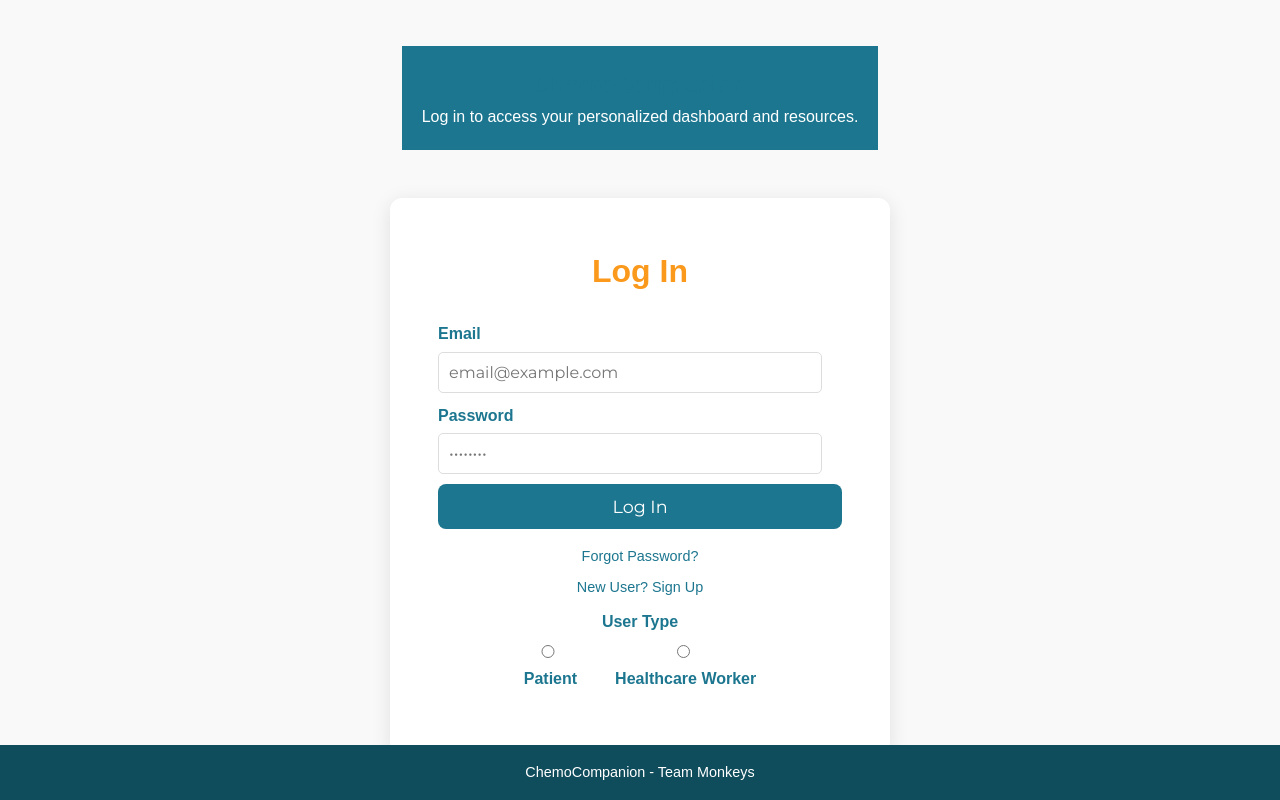
Scenario: Login Page Tests › should open the forgot password modal
Click the link with class "forgot-password". click: (641,556)
box: [582,548,699,564]
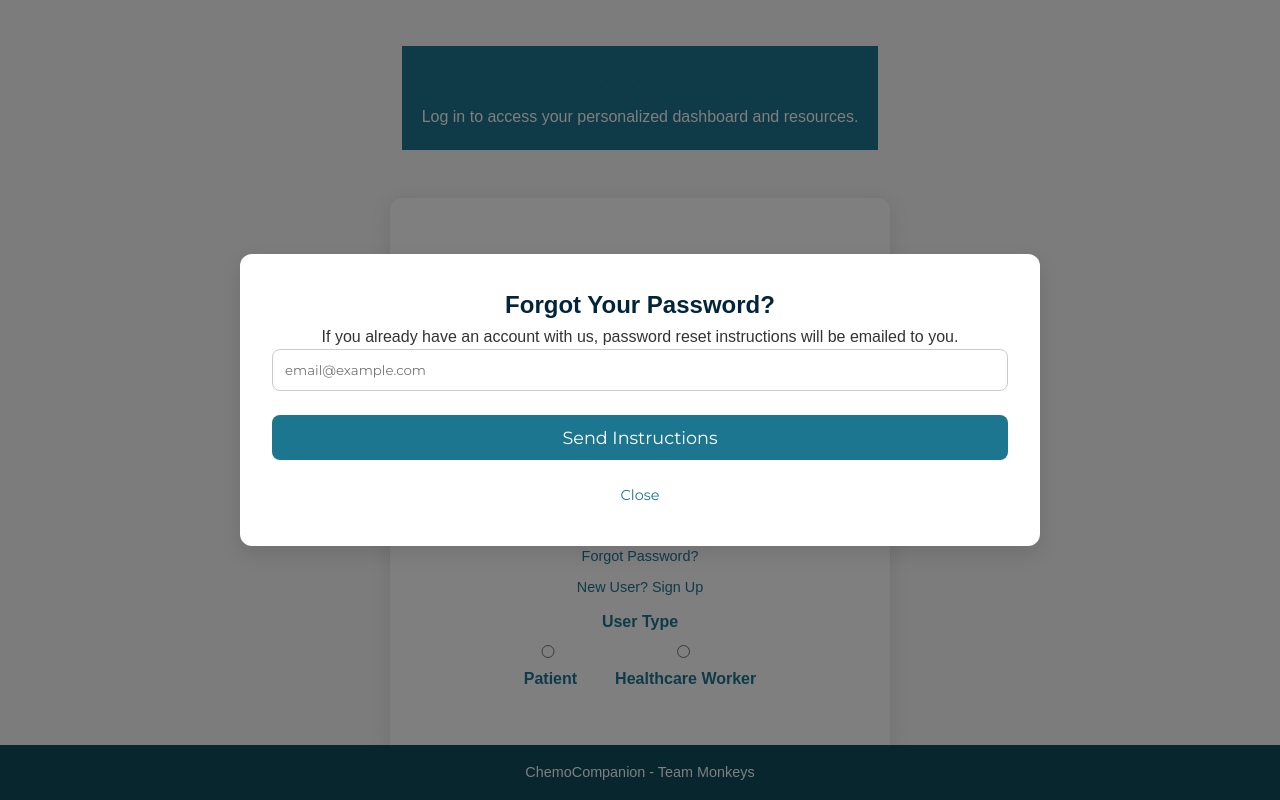
Result: the heading "Forgot Your Password?" is shown at [505,290,775,318]
Click the button with class "modal-button". click: (640,439)
box: [272,416,1008,461]
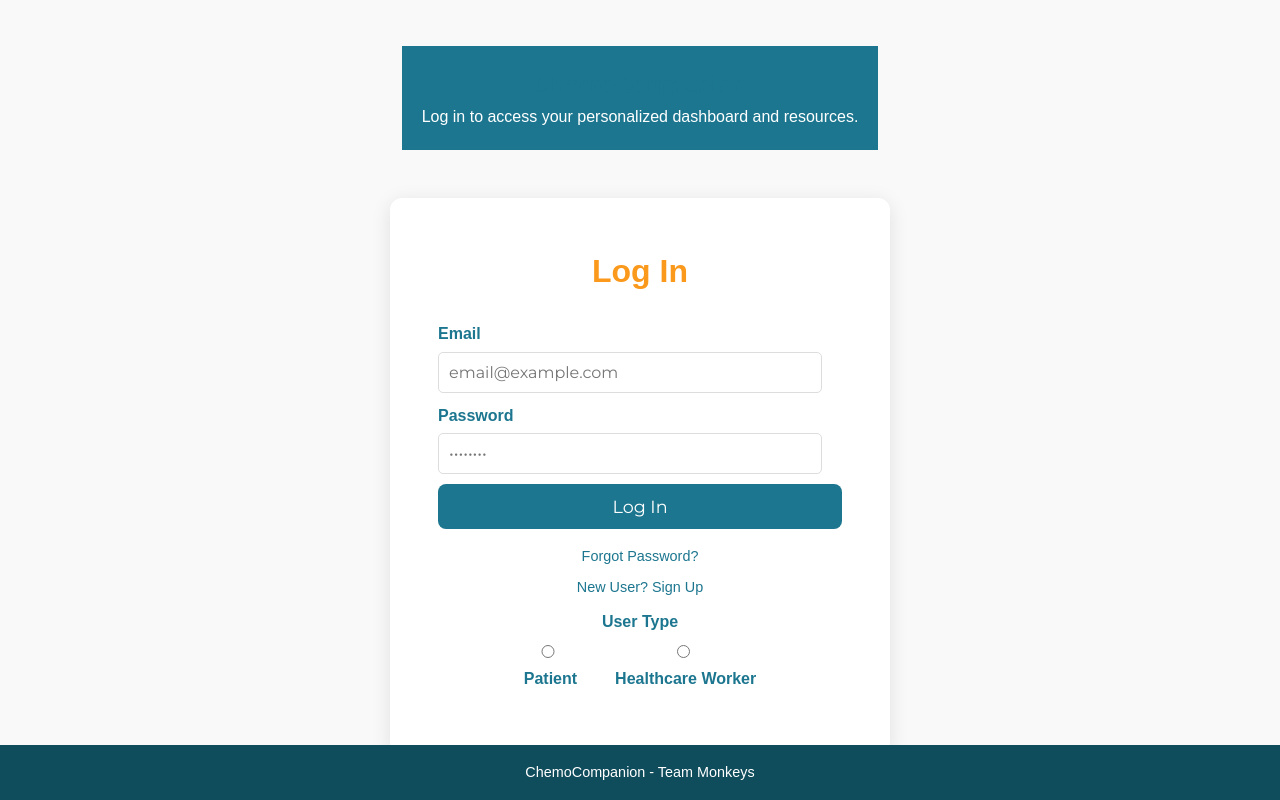
Result: the heading "Forgot Your Password?" is gone
